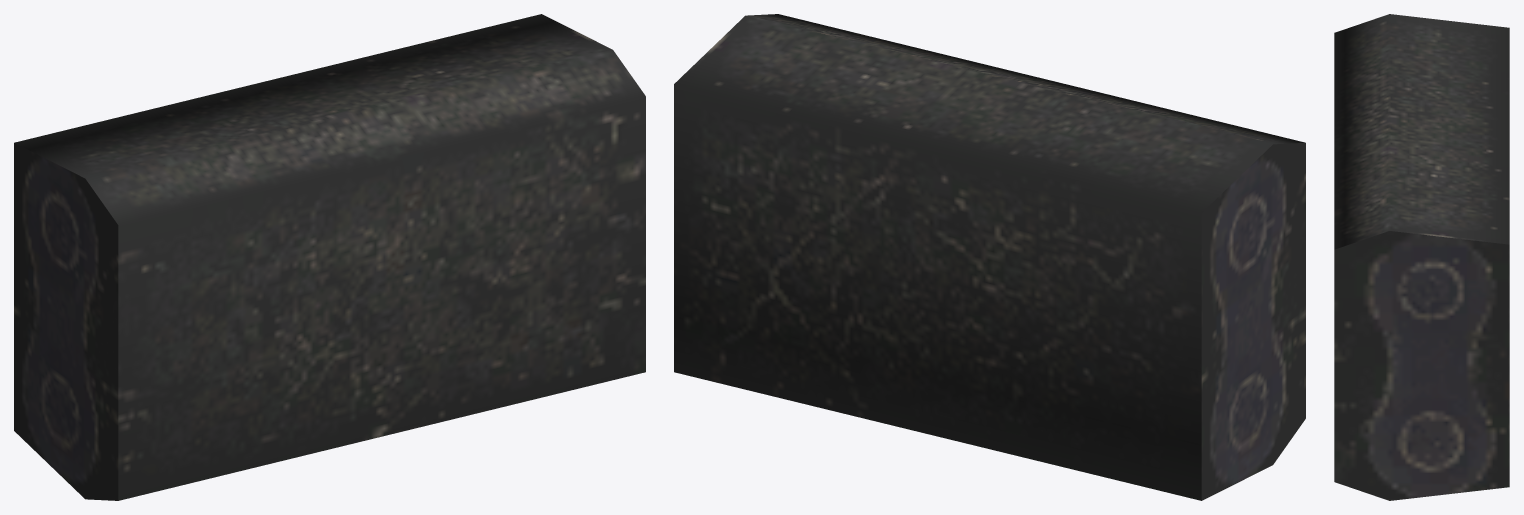
3 renders of one model, left to right at view 1: azimuth 30°, elevation 25°; view 2: azimuth 150°, elevation 25°; view 3: azimuth 270°, elevation 25°, orthographic. The views are drawn at different scales.
Visible parts, largest first — view 1: set_0_group_0; view 2: set_0_group_0; view 3: set_0_group_0.
Boxes of the visible parts, left/top/right/bottom form: set_0_group_0: left=14, top=14, right=645, bottom=500; set_0_group_0: left=674, top=14, right=1305, bottom=500; set_0_group_0: left=1334, top=14, right=1509, bottom=500.
Size of the model in its own units: 0.2684 by 0.1559 by 0.0918.
1 material, 1 textured.
